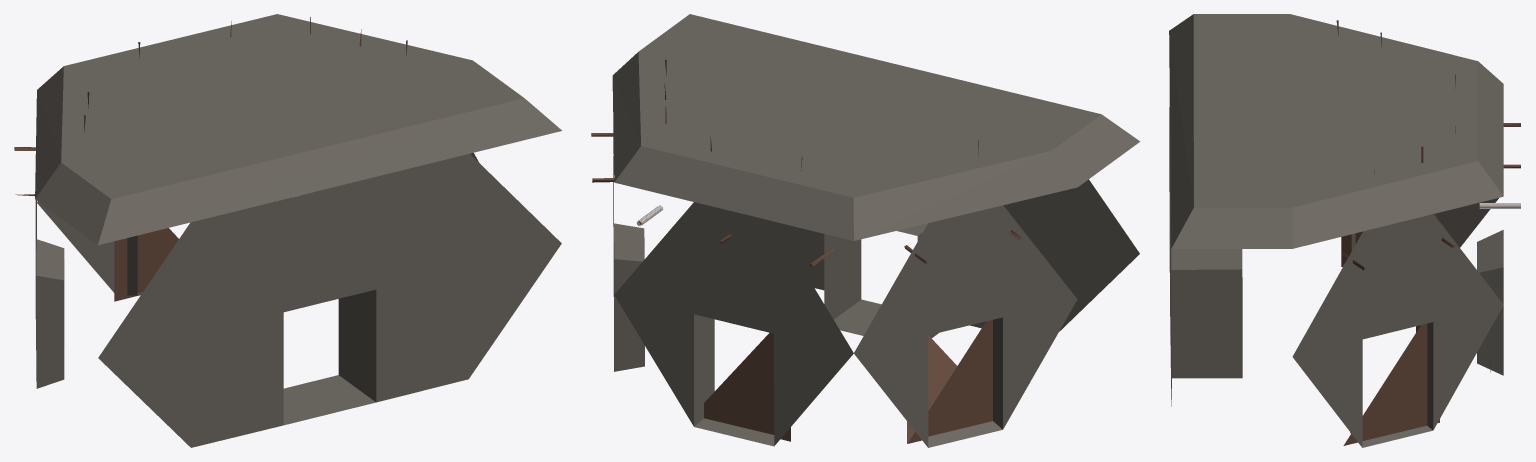
File: bw-bunker.zfix-v3.lod2.glb
The picture shows the model from 3 angles, left to right: view 1: azimuth 30°, elevation 25°; view 2: azimuth 150°, elevation 25°; view 3: azimuth 270°, elevation 25°; orthographic projection. The views are drawn at different scales.
Visible parts, largest first — view 1: Cube.001_0; view 2: Cube.001_0; view 3: Cube.001_0.
Boxes of the visible parts, <box> form: Cube.001_0: <box>14,14,562,447</box>; Cube.001_0: <box>591,14,1139,447</box>; Cube.001_0: <box>1169,14,1520,447</box>.
Bounding box in the file's own units: 9 × 5.05 × 6.15.
